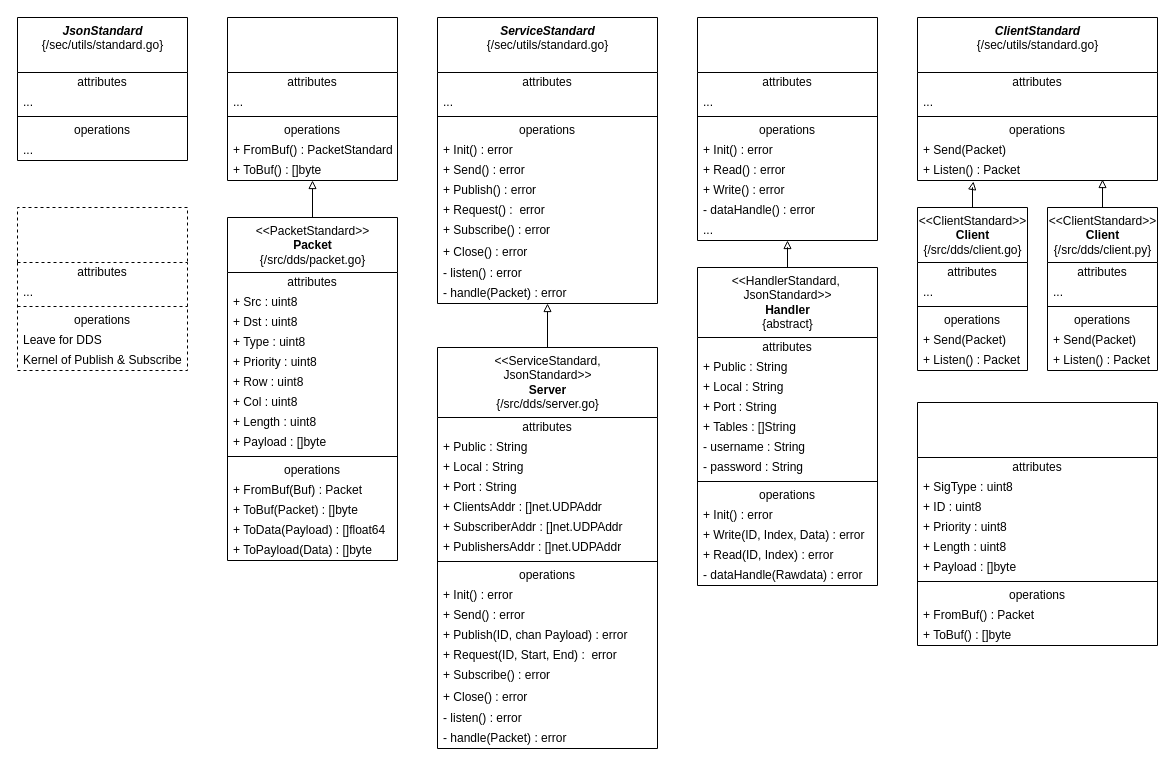
Some shapes in this 1175 by 766 pixel diagram are drawn without their labels. Each missing label, with the box of its shape:
<<PacketStandard>> Message {/src/dds/signal.go}: (916, 402, 1158, 646)
DDSPolicy {/sec/utils/standard.go}: (16, 206, 188, 370)
HandlerStandard {/sec/utils/standard.go}: (696, 16, 878, 240)
PacketStandard {/sec/utils/standard.go}: (226, 16, 398, 180)
